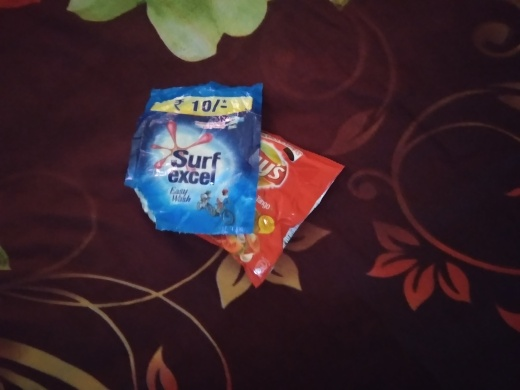lays: (201, 124, 343, 289)
surf: (133, 80, 268, 240)
